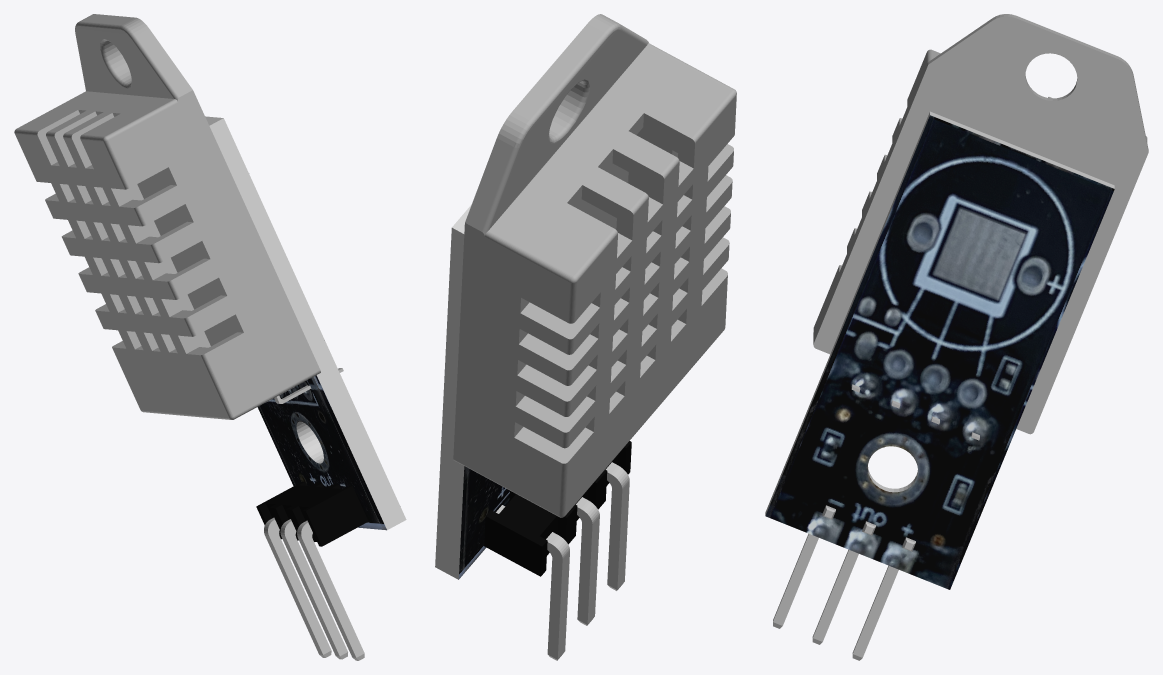
The model's file is sensor-temperature.glb.
The picture shows the model from 3 angles, left to right: view 1: azimuth 30°, elevation 25°; view 2: azimuth 150°, elevation 25°; view 3: azimuth 270°, elevation 25°; orthographic projection. The views are drawn at different scales.
Parts seen in each view (by area): view 1: DHT22_Material.013_0, DHT22_Material.012_0, DHT22_Material.016_0, DHT22_Material.014_0, DHT22_Material.015_0; view 2: DHT22_Material.013_0, DHT22_Material.014_0, DHT22_Material.012_0, DHT22_Material.015_0, DHT22_Material.016_0; view 3: DHT22_Material.017_0, DHT22_Material.013_0, DHT22_Material.014_0, DHT22_Material.012_0.
Part boxes in pixels (x1,y1,x2,y2): DHT22_Material.013_0: [14, 14, 320, 419]; DHT22_Material.012_0: [205, 116, 406, 530]; DHT22_Material.016_0: [257, 375, 386, 530]; DHT22_Material.014_0: [264, 368, 364, 660]; DHT22_Material.015_0: [256, 481, 368, 546]; DHT22_Material.013_0: [453, 14, 736, 517]; DHT22_Material.014_0: [496, 462, 629, 660]; DHT22_Material.012_0: [435, 204, 471, 579]; DHT22_Material.015_0: [484, 441, 631, 576]; DHT22_Material.016_0: [458, 466, 509, 579]; DHT22_Material.017_0: [765, 115, 1114, 589]; DHT22_Material.013_0: [813, 14, 1148, 434]; DHT22_Material.014_0: [773, 384, 979, 660]; DHT22_Material.012_0: [765, 111, 1114, 515].
Size of the model in its own units: 0.0262 by 0.0637 by 0.0373.
6 materials, 2 textured.
